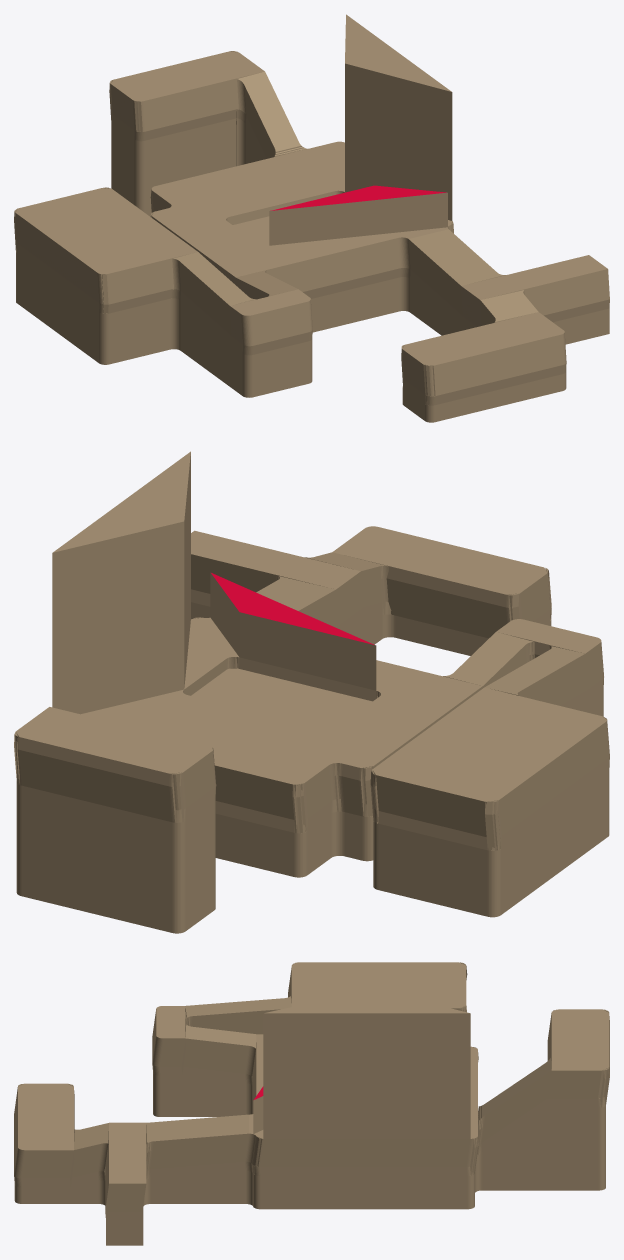
The model's file is CuevaB16.fbx.
The picture shows the model from 3 angles, top to bottom: view 1: azimuth 30°, elevation 25°; view 2: azimuth 150°, elevation 25°; view 3: azimuth 270°, elevation 25°; orthographic projection. The views are drawn at different scales.
Visible parts, largest first — view 1: Cube.001; view 2: Cube.001; view 3: Cube.001.
Boxes of the visible parts, left/top/right/bottom form: Cube.001: left=14, top=14, right=609, bottom=422; Cube.001: left=14, top=451, right=609, bottom=933; Cube.001: left=14, top=962, right=609, bottom=1245.
Size of the model in its own units: 0.7284 by 0.9343 by 0.339.
